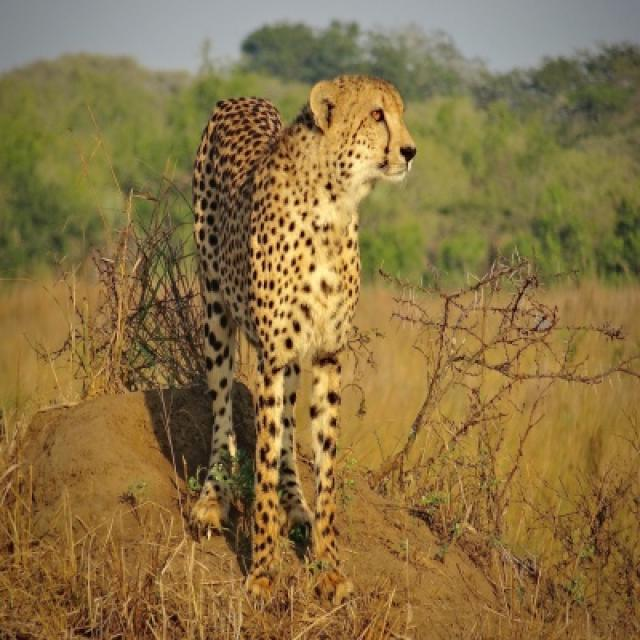Cheetah: (192, 77, 414, 587)
